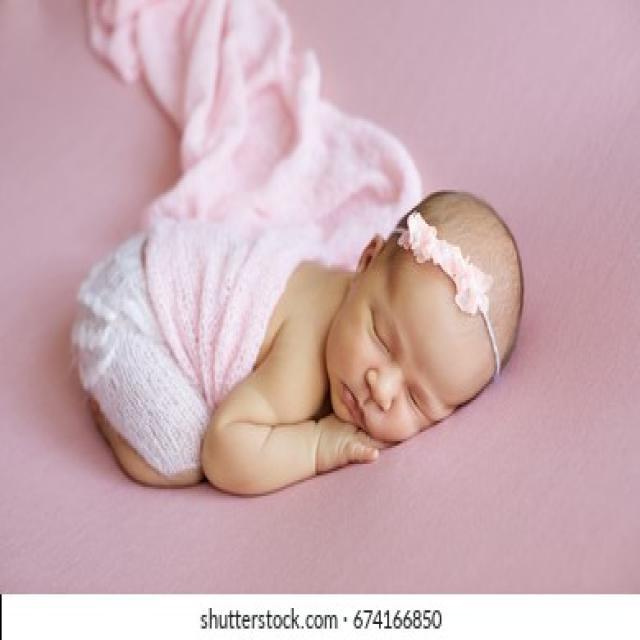non-dog: (66, 190, 526, 497)
